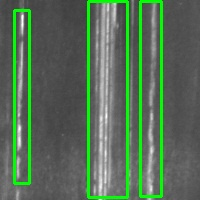scratches: (88, 1, 127, 197), (140, 1, 161, 196), (14, 10, 29, 183)
